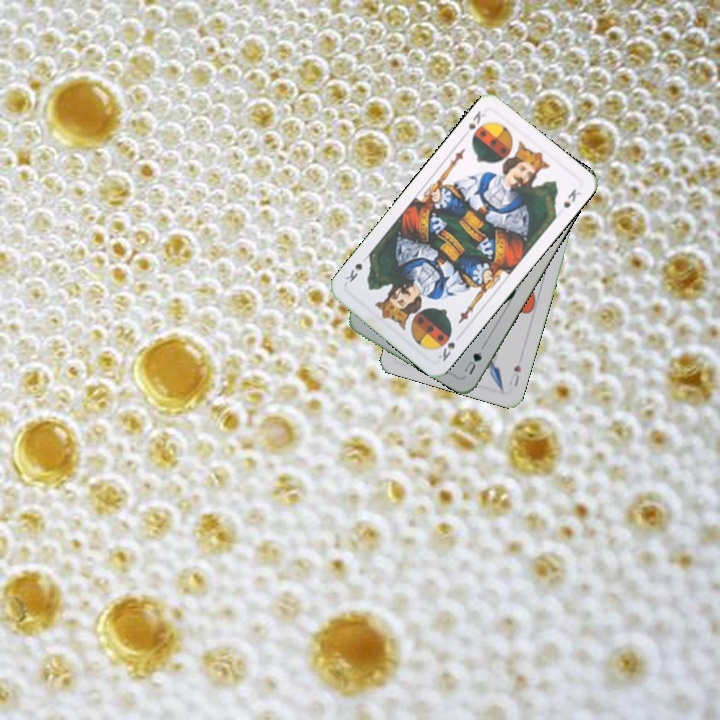GU: (460, 342, 487, 377)
HU: (505, 360, 524, 389)
SK: (434, 338, 458, 364), (464, 107, 488, 132)
